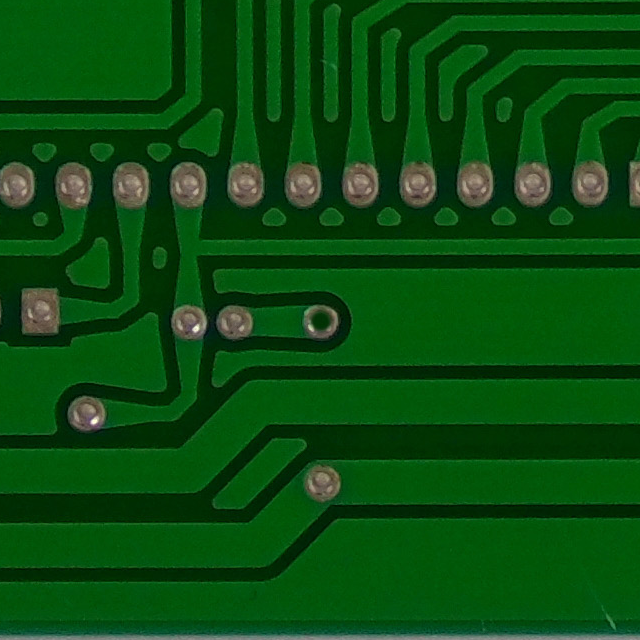missing_hole: (295, 295, 346, 346)
